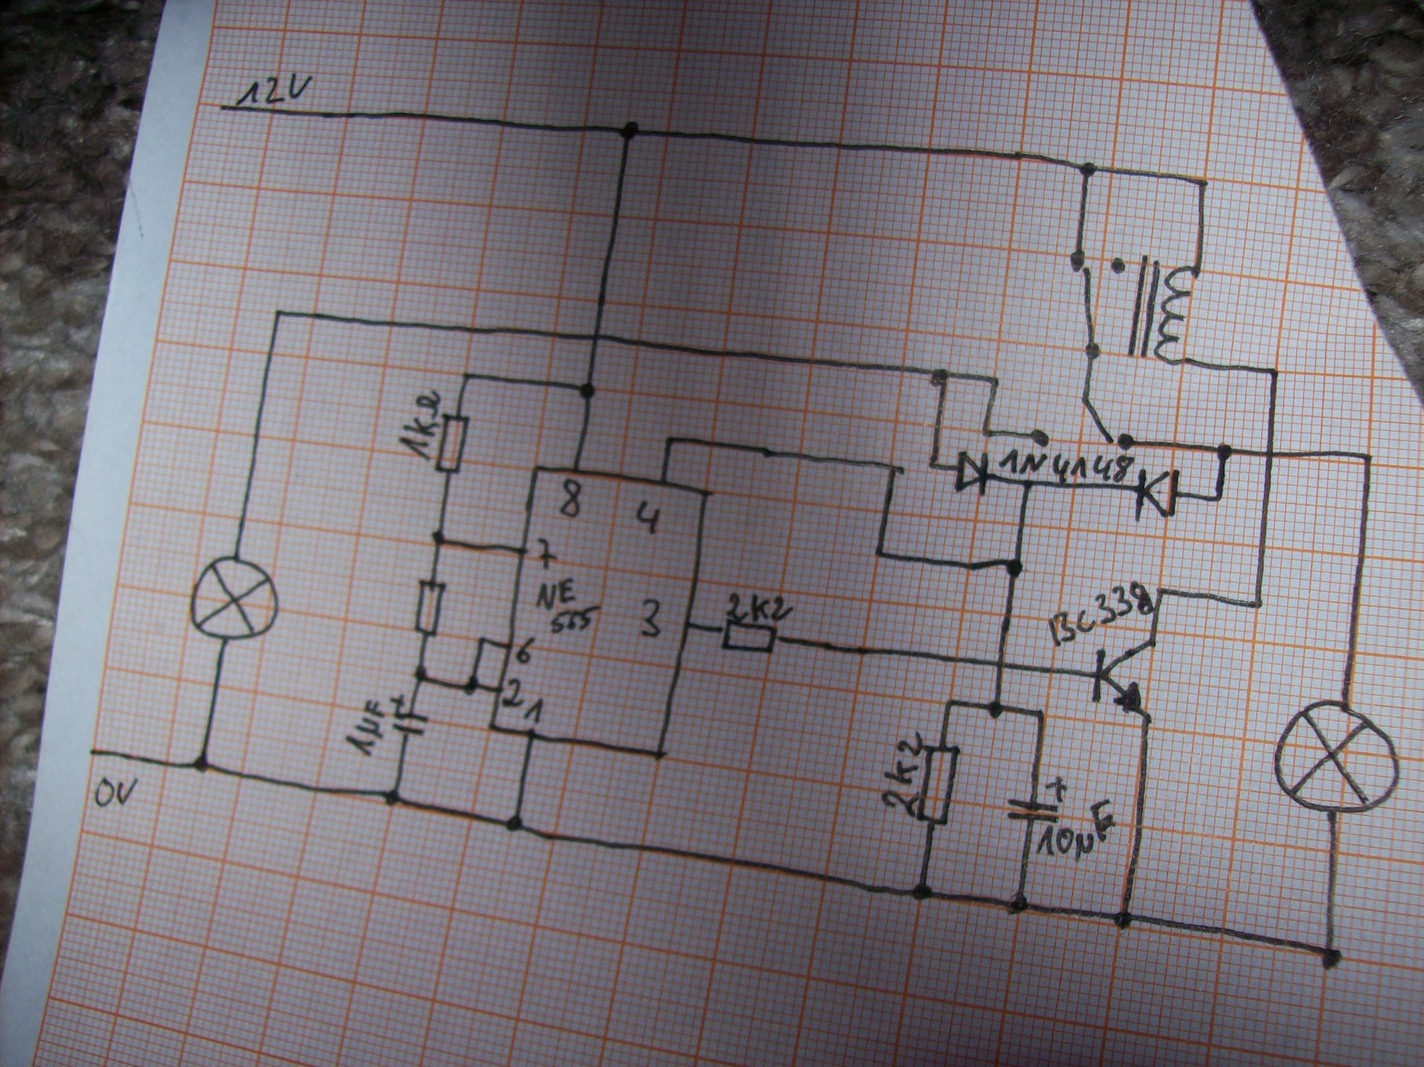capacitor.polarized: (1006, 776, 1068, 824), (389, 692, 429, 737)
crossover: (990, 655, 1013, 672), (1260, 446, 1279, 462), (587, 331, 605, 346)
diode: (1133, 468, 1182, 525), (953, 448, 992, 498)
integrated_cricuit.ne555: (487, 463, 713, 761)
junction: (1319, 944, 1344, 971), (1005, 890, 1030, 916), (1002, 554, 1023, 579), (929, 365, 951, 389), (910, 882, 934, 903), (618, 119, 641, 141), (1113, 908, 1133, 931), (576, 382, 598, 402), (504, 814, 524, 835), (190, 754, 212, 774), (429, 529, 449, 550), (986, 699, 1005, 722), (1214, 440, 1234, 462), (463, 675, 480, 697), (383, 787, 401, 807), (887, 460, 906, 477), (1078, 161, 1098, 178), (1359, 448, 1377, 466), (1248, 595, 1266, 613), (413, 664, 428, 685), (871, 546, 888, 562), (1033, 704, 1049, 722), (1194, 175, 1211, 191), (1266, 364, 1283, 380), (1210, 489, 1226, 505), (978, 424, 994, 440), (987, 372, 1003, 389), (925, 456, 942, 472), (460, 370, 476, 386), (272, 307, 288, 323), (662, 433, 677, 447), (1153, 584, 1167, 599), (942, 696, 958, 709), (1020, 477, 1035, 491), (477, 635, 488, 648)
lamp: (1272, 698, 1400, 814), (189, 554, 280, 641)
relay: (1069, 249, 1202, 368)
resistor: (916, 745, 961, 825), (719, 619, 783, 655), (434, 412, 471, 474), (412, 578, 447, 638)
switch: (1030, 395, 1134, 451)
terminal: (84, 744, 103, 760), (216, 101, 229, 115)
text: (1048, 579, 1154, 648), (1036, 798, 1117, 862), (998, 448, 1135, 483), (534, 575, 601, 635), (879, 731, 923, 817), (397, 389, 443, 461), (235, 71, 314, 105), (344, 698, 387, 757), (724, 591, 794, 623), (94, 774, 140, 809), (637, 599, 664, 639), (634, 499, 662, 535), (559, 477, 583, 519), (536, 536, 560, 570), (501, 677, 525, 708), (524, 698, 546, 725), (515, 637, 536, 664)
transistor: (1091, 640, 1157, 722)
